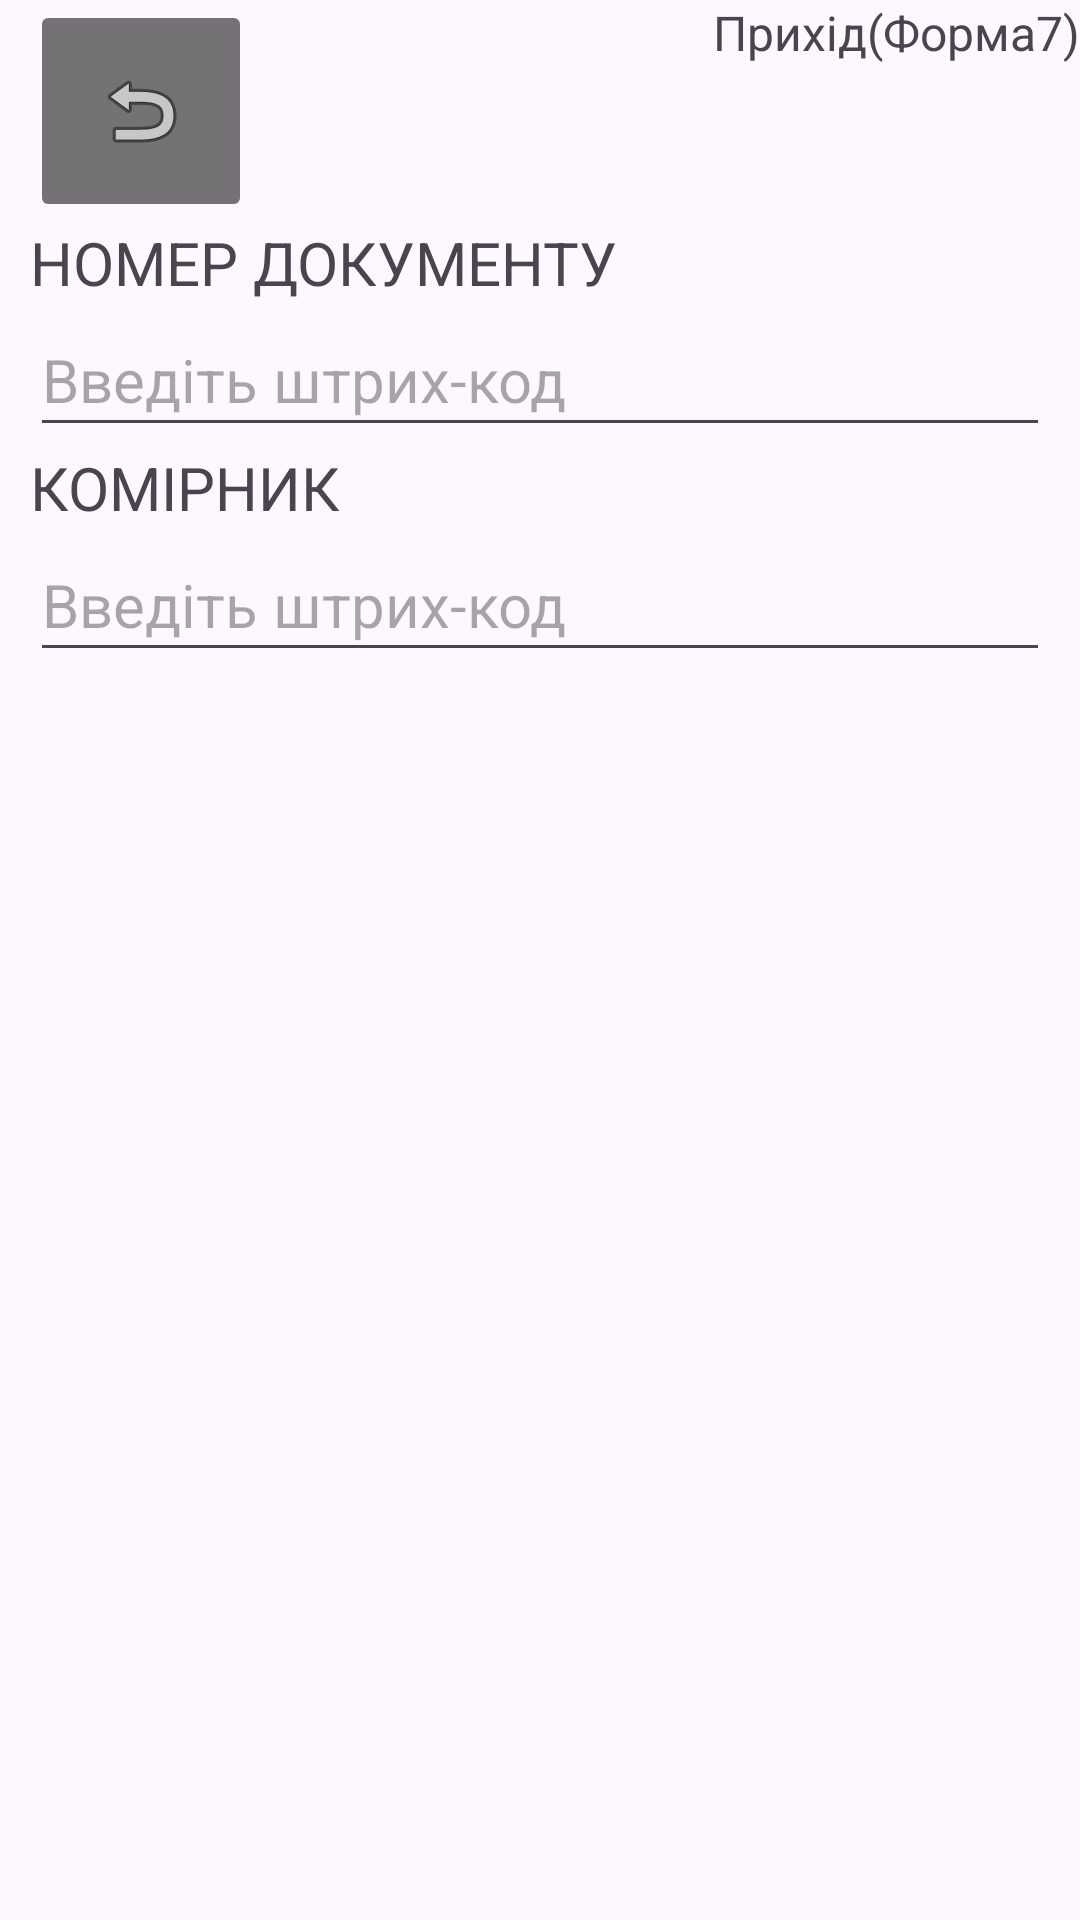

Icons on this 1080×1920 Android screen, each with its box as [x1, y1, x2, y2]:
На головну: [42, 18, 240, 204]
